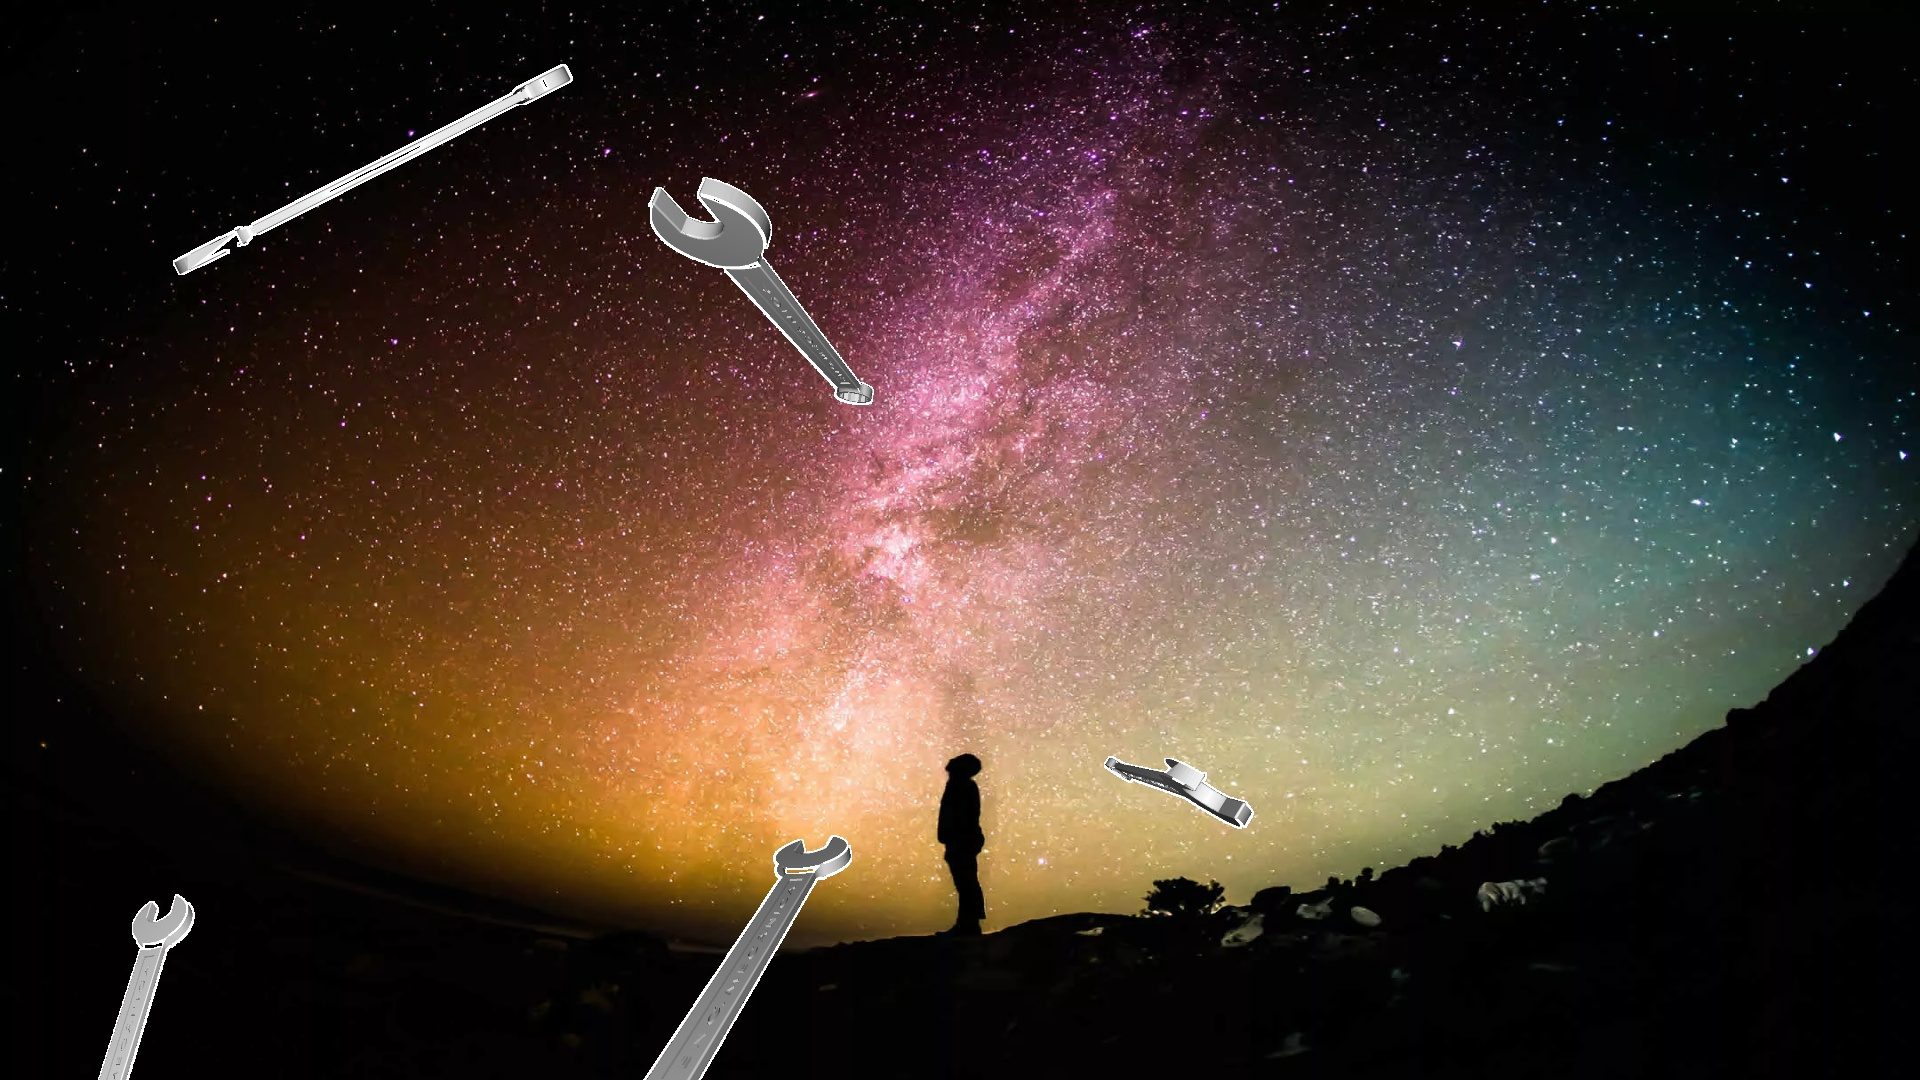Mixed Key: (173, 65, 572, 274), (647, 177, 873, 404), (644, 835, 851, 1079), (98, 894, 194, 1079), (1104, 756, 1253, 828)
